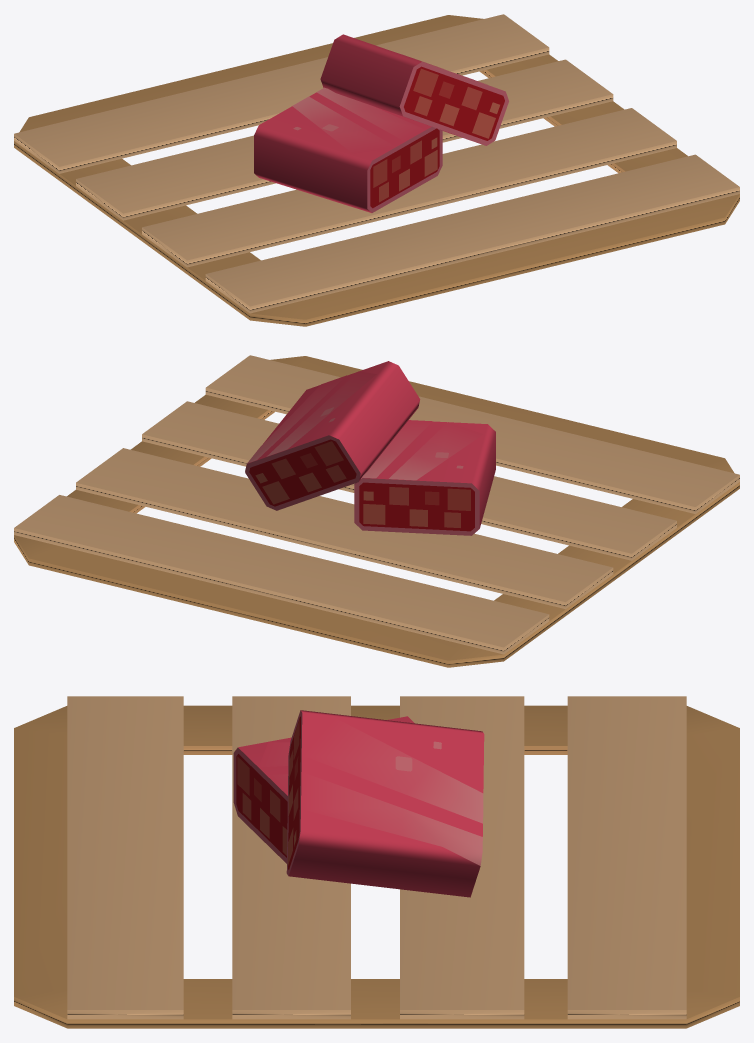
The model's file is BC_cookrecipe_S_38.fbx.
3 views of the same model, one above another, from view 1: azimuth 30°, elevation 25°; view 2: azimuth 150°, elevation 25°; view 3: azimuth 270°, elevation 25° (orthographic). The views are drawn at different scales.
Parts seen in each view (by area): view 1: base, model; view 2: base, model; view 3: base, model.
Part boxes in pixels (x1,y1,x2,y2): base: [14, 14, 739, 326]; model: [254, 34, 508, 212]; base: [14, 355, 739, 667]; model: [245, 361, 495, 535]; base: [14, 696, 739, 1028]; model: [233, 710, 484, 897].
Bounding box in the file's own units: 3.54 × 0.8946 × 3.47.
